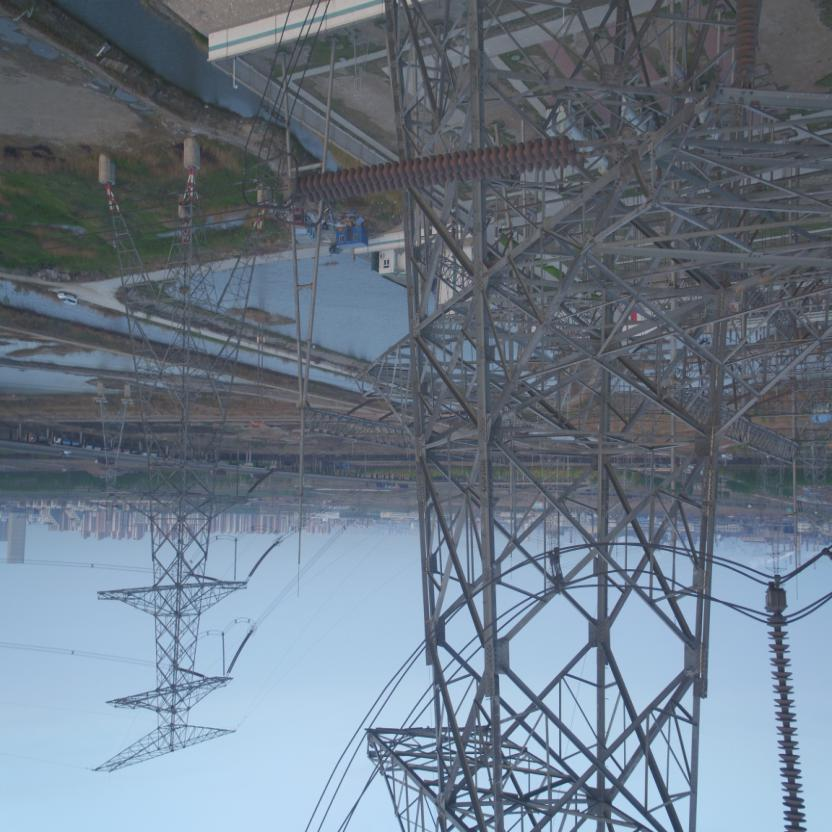insulator: (290, 134, 600, 214)
